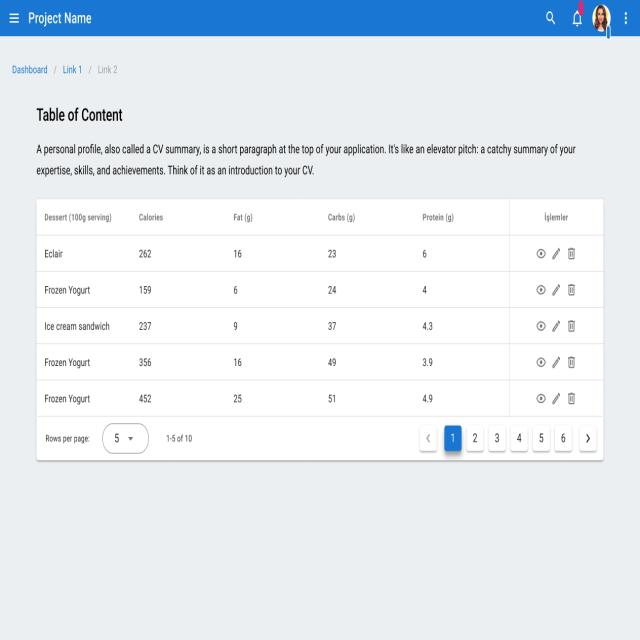QLabel: (32, 140, 578, 182), (34, 106, 124, 122), (26, 10, 94, 26)
VAppBar: (0, 0, 640, 38)
VBadge: (592, 4, 612, 34), (572, 1, 584, 27)
VBreadcrumbs: (11, 64, 120, 78)
VDataTable: (35, 197, 605, 464)
VIcon: (546, 11, 555, 26), (9, 13, 20, 24), (624, 12, 628, 25)
